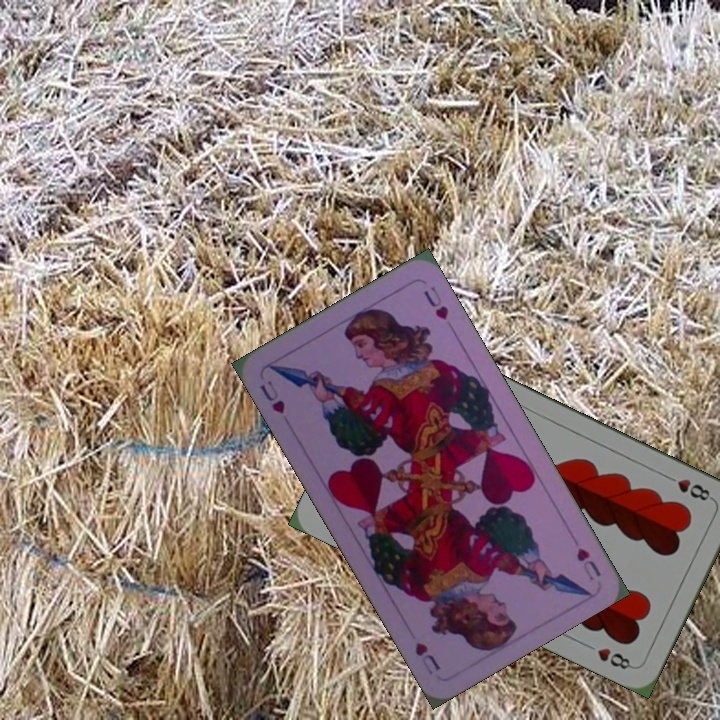H8: (660, 471, 716, 504)
HU: (255, 376, 288, 417), (572, 543, 604, 584)
